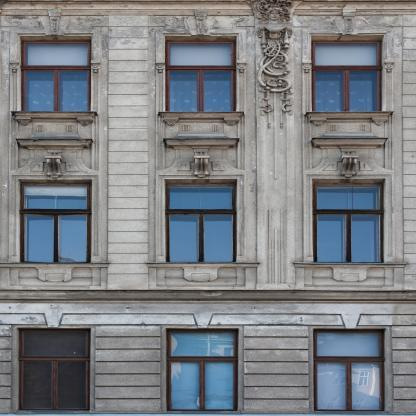Building Outline: (1, 1, 415, 415)
Cornice: (310, 133, 390, 178), (14, 135, 94, 179), (163, 134, 240, 178), (185, 9, 216, 36), (333, 8, 364, 35), (40, 9, 69, 36)
Deco: (256, 0, 294, 130)
Facade: (0, 1, 415, 415)
Floor: (1, 148, 415, 290), (1, 1, 415, 138), (1, 301, 415, 416)
Floor Slab: (1, 138, 415, 149), (1, 290, 415, 301)
Pillar: (109, 16, 147, 290), (401, 16, 416, 290)
Sill: (304, 111, 394, 126), (10, 111, 98, 126), (158, 111, 244, 126)
Window: (18, 329, 91, 412), (313, 179, 385, 263), (167, 328, 239, 411), (19, 180, 91, 263), (165, 179, 237, 262), (313, 329, 384, 412), (311, 36, 383, 112), (19, 36, 91, 111), (165, 36, 237, 111)
